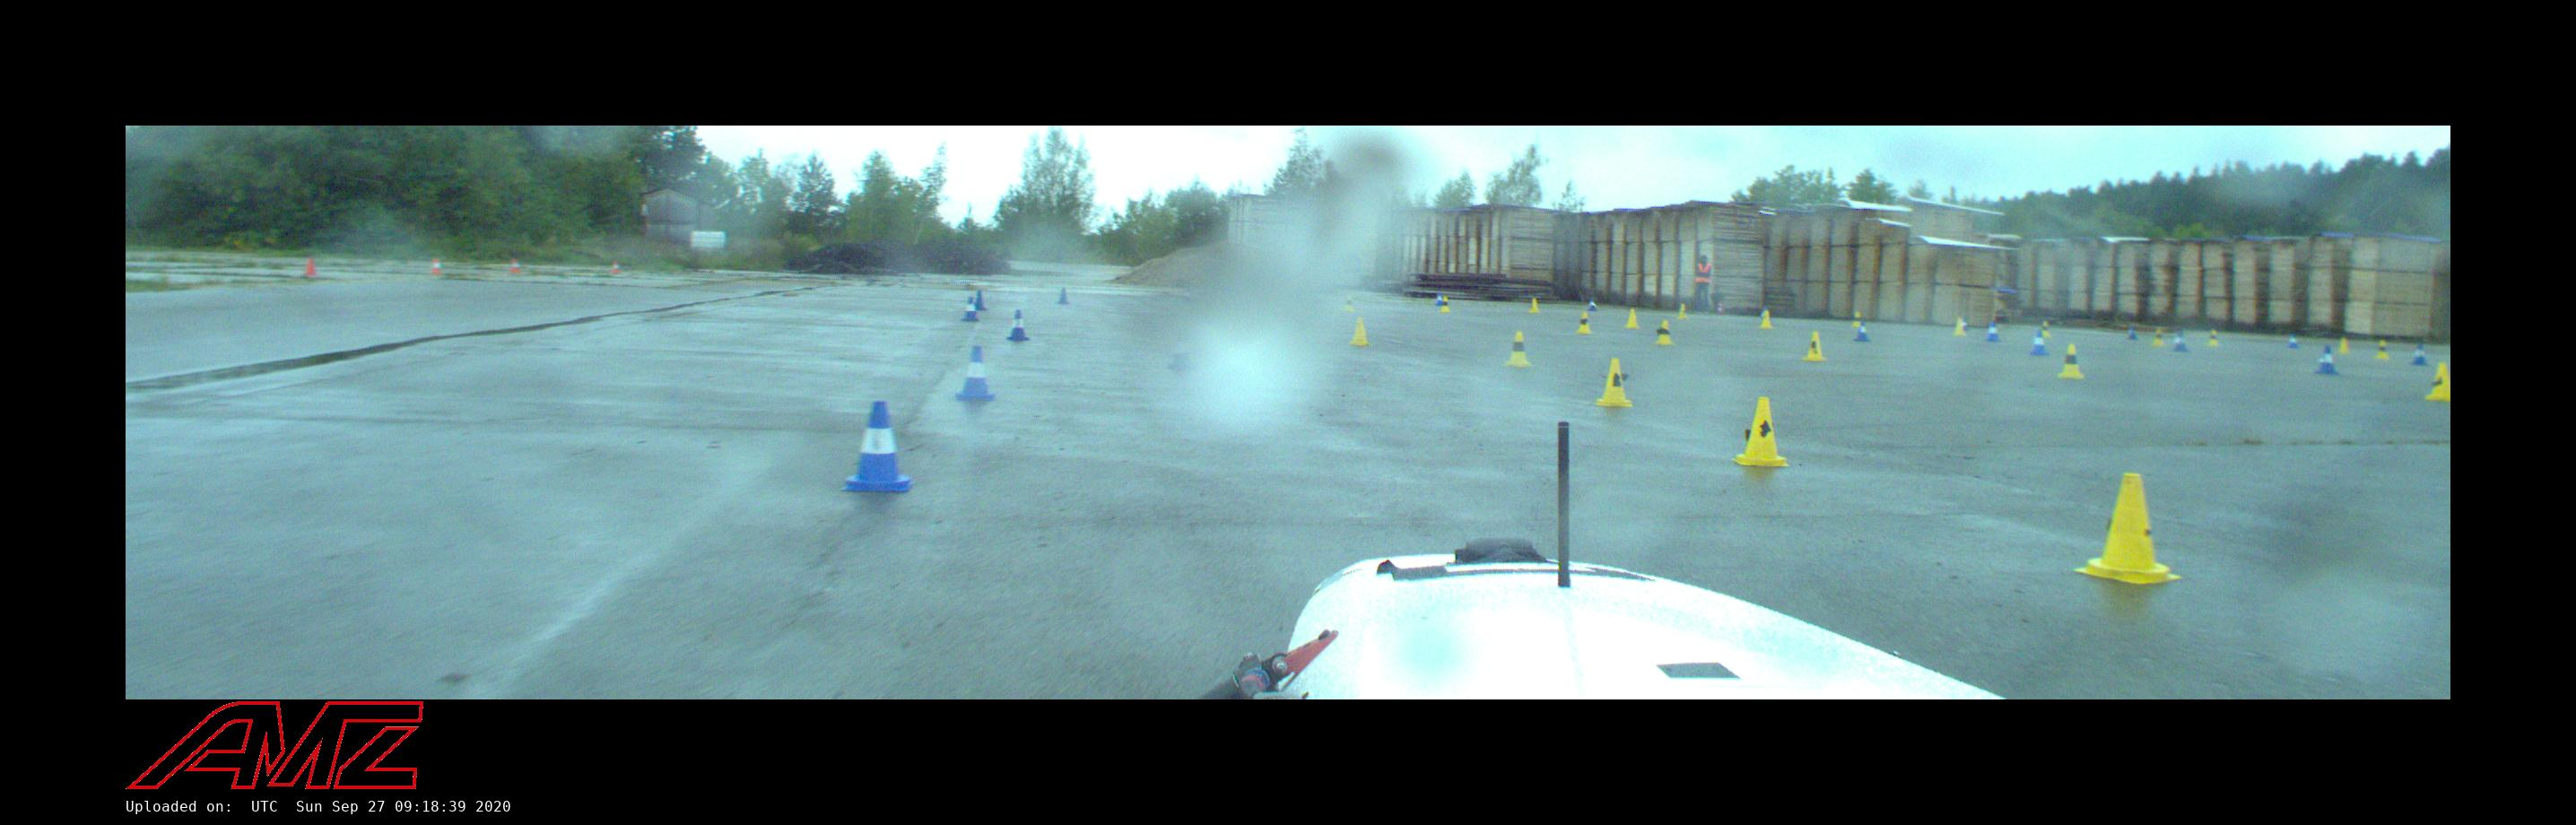blue_cone: (843, 401, 915, 491), (956, 347, 997, 399), (2315, 345, 2339, 375), (1007, 309, 1030, 340), (959, 297, 979, 320), (2031, 330, 2049, 355), (2410, 345, 2428, 365), (1853, 320, 1871, 340), (2172, 332, 2188, 352), (1985, 320, 1999, 340), (974, 291, 987, 311), (1056, 288, 1069, 302), (2287, 335, 2298, 348), (2126, 327, 2137, 339), (1587, 297, 1597, 311), (1434, 293, 1442, 306), (1963, 317, 1968, 330)
orange_cone: (302, 258, 317, 274), (430, 260, 442, 273), (609, 261, 621, 273), (509, 260, 519, 273)
yellow_cone: (2073, 473, 2182, 583), (1732, 398, 1789, 467), (1597, 358, 1633, 406), (2425, 362, 2451, 401), (2057, 345, 2085, 378), (1505, 332, 1529, 365), (1802, 332, 1827, 360), (1349, 317, 1370, 345), (1656, 320, 1674, 345), (1758, 311, 1774, 329), (1577, 312, 1592, 332), (1625, 309, 1640, 327), (1952, 319, 1966, 335), (2206, 329, 2219, 347), (2377, 340, 2389, 358), (2152, 329, 2164, 347), (2336, 339, 2349, 353), (1850, 311, 1861, 327), (1344, 296, 1355, 311), (1676, 304, 1687, 319), (1439, 297, 1449, 311), (1529, 299, 1539, 312), (2044, 322, 2052, 337)
